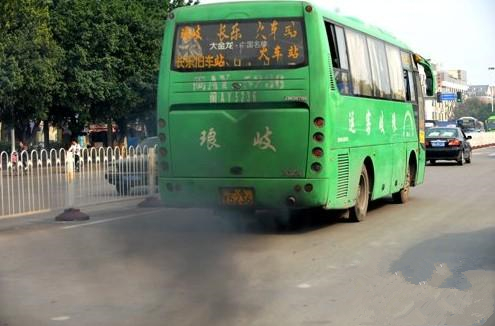smoke: (112, 208, 264, 311)
